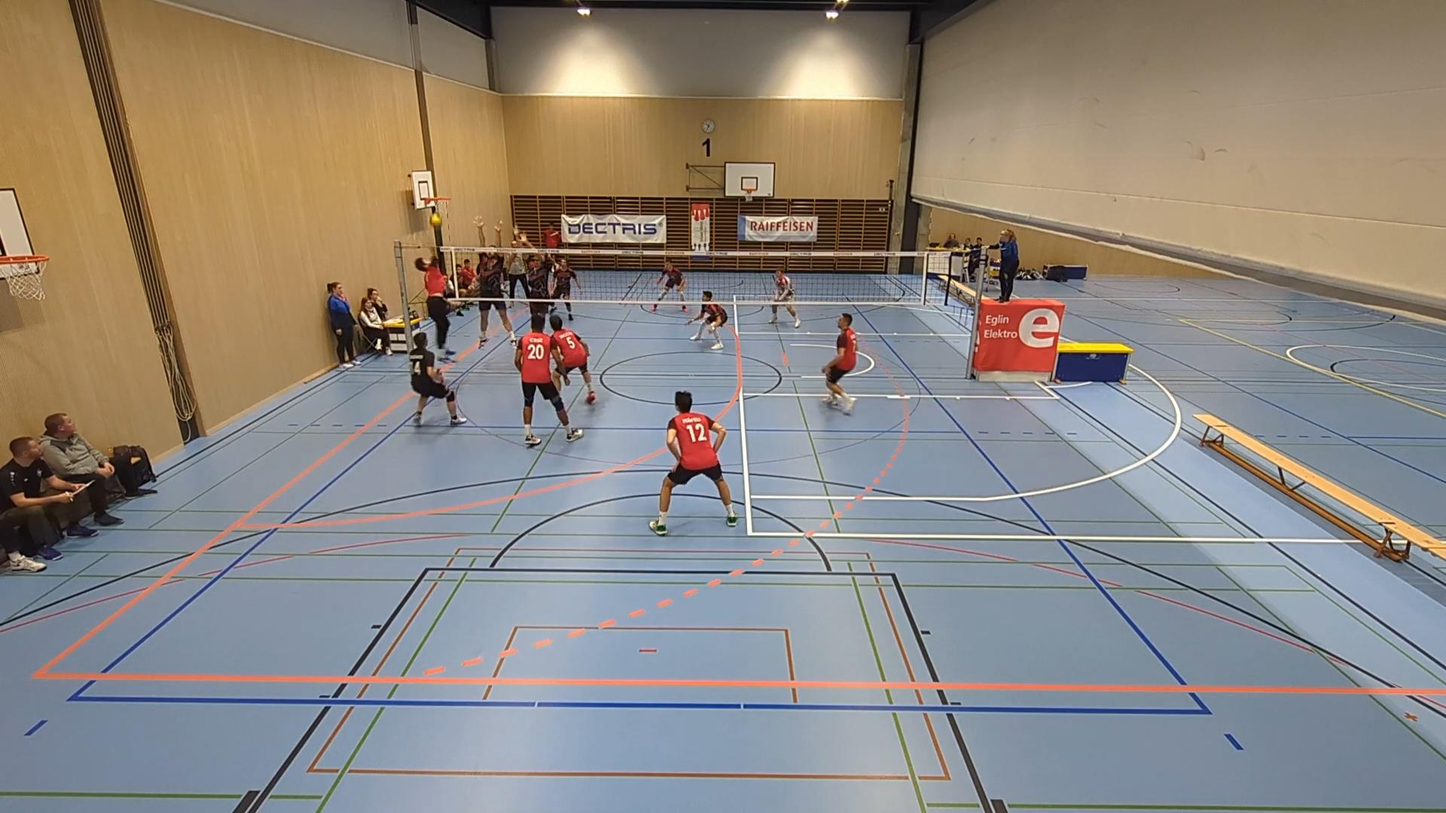Attack: (407, 243, 468, 355)
Block: (471, 217, 515, 354), (511, 231, 561, 337)
Player: (649, 391, 737, 535), (514, 313, 582, 446), (409, 332, 466, 425), (550, 313, 596, 403), (821, 312, 856, 413), (688, 291, 727, 349), (651, 259, 687, 311), (551, 257, 580, 320), (770, 269, 800, 328)
ball: (430, 214, 443, 227)
